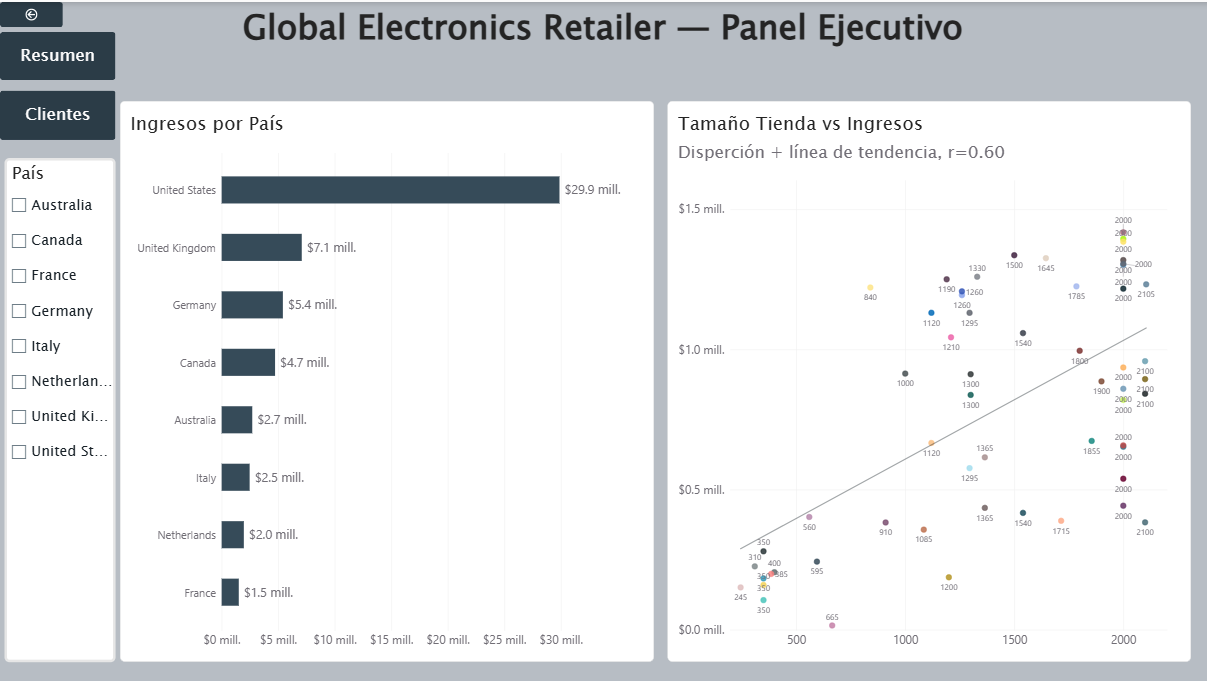

Layout of this report page (visuals, bound fields, positions):
{"tool":"powerbi","page":{"name":"Tiendas","canvas":[1920,1080],"ordinal":1},"visuals":[{"type":"scatterChart","title":"Tamaño Tienda vs Ingresos","fields":{"Y":["Medidas.Ingresos Totales"],"Series":["Stores.StoreKey"],"X":["Stores.Square_Meters"]},"box":[1061.7,157.5,832.7,892.3],"z":0},{"type":"actionButton","box":[0,0,100,40],"z":1000},{"type":"actionButton","box":[0,47.7,183.7,76.3],"z":2000},{"type":"actionButton","box":[0,140.8,183.7,78.7],"z":3000},{"type":"barChart","title":"Ingresos por País","fields":{"Y":["Medidas.Ingresos Totales"],"Category":["Customers.Country"]},"box":[190.9,157.5,849.4,892.3],"z":4000},{"type":"slicer","fields":{"Values":["Customers.Country"]},"box":[7.2,248.1,176.6,801.7],"z":5000},{"type":"textbox","box":[359.1,0,1201.9,96.4],"z":5001}]}

Visuals, with their boxes on the page's 1920x1080 design canvas (x1, y1, x2, y2). These are canvas units, not pixel positions in the 1207x681 screenshot, which may show the page scaled, cropped or inside an application window:
"Tamaño Tienda vs Ingresos" scatterChart: l=1062, t=158, r=1894, b=1050
actionButton: l=0, t=0, r=100, b=40
actionButton: l=0, t=48, r=184, b=124
actionButton: l=0, t=141, r=184, b=220
"Ingresos por País" barChart: l=191, t=158, r=1040, b=1050
slicer - Customers.Country: l=7, t=248, r=184, b=1050
textbox: l=359, t=0, r=1561, b=96
